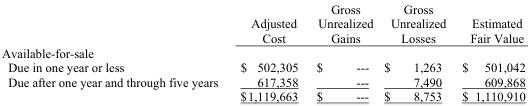table: (0, 1, 524, 103)
table column: (0, 1, 228, 103), (228, 1, 306, 103), (377, 1, 453, 103), (306, 1, 377, 103), (453, 1, 524, 103)
table column header: (0, 1, 524, 45)
table projected row header: (0, 45, 524, 59)
table row: (0, 1, 524, 45), (0, 59, 524, 74), (0, 88, 524, 103), (0, 45, 524, 59), (0, 74, 524, 88)
